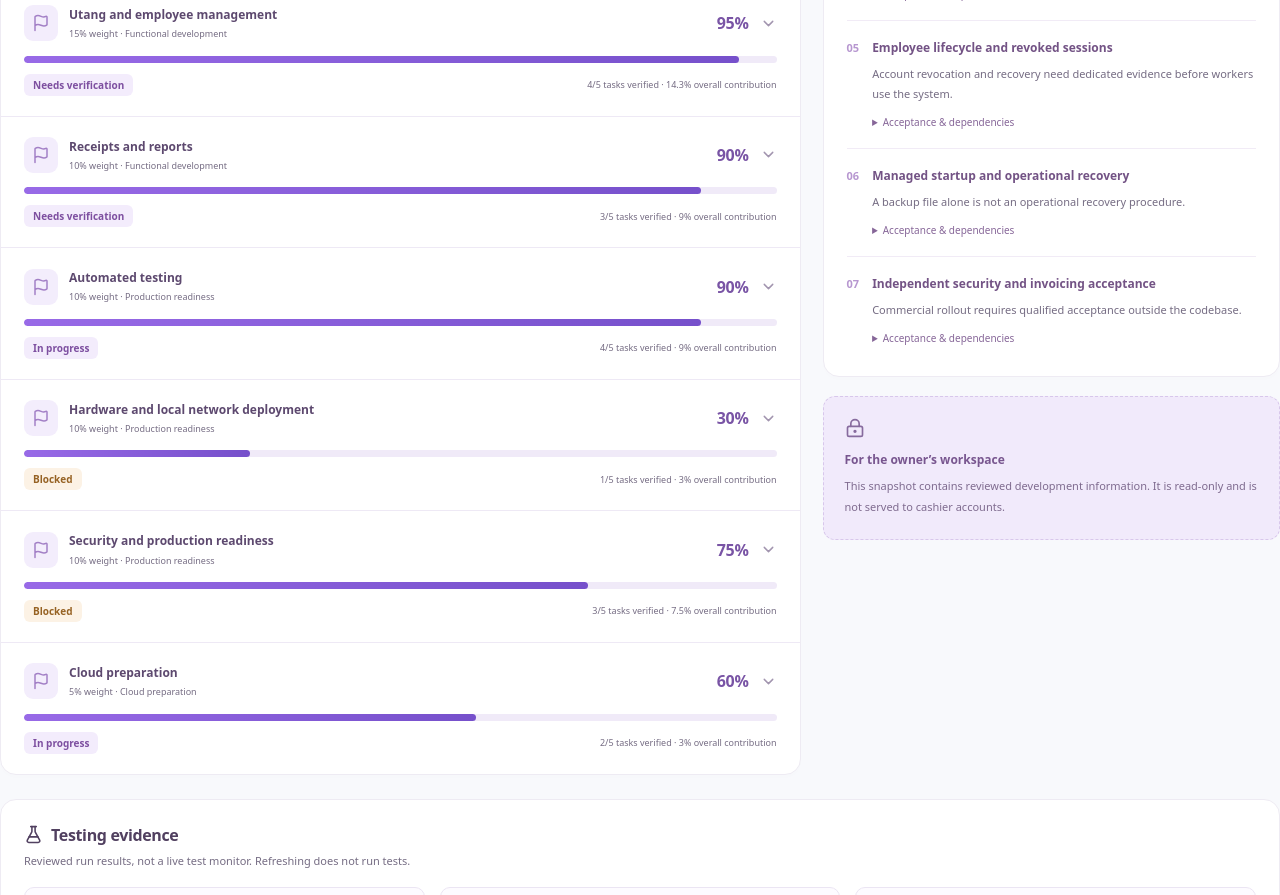
Test: reviewed development progress dashboard › includes inspectable feature classifications, evidence and acceptance steps
The width and height of the screenshot is (1280, 895).
(page scrolled)
Click the heading that starts with "Hardware and local network deployment" at (41, 418), box [1,380,800,510]
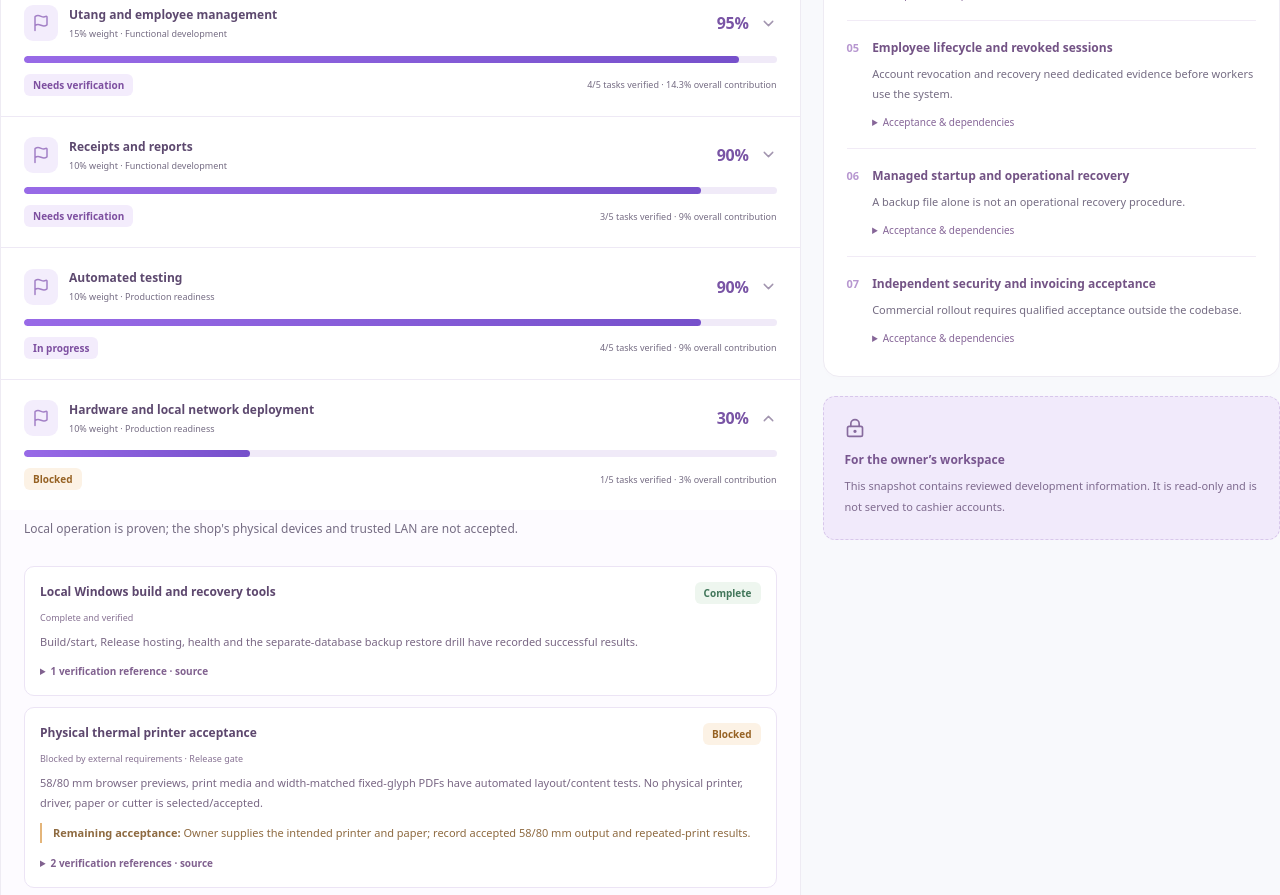
Expected: the text "Blocked by external requirements · Release gate" is shown, [40,752,243,765]
Expected: the text "Owner supplies the intended printer" is shown, [183,825,750,840]
